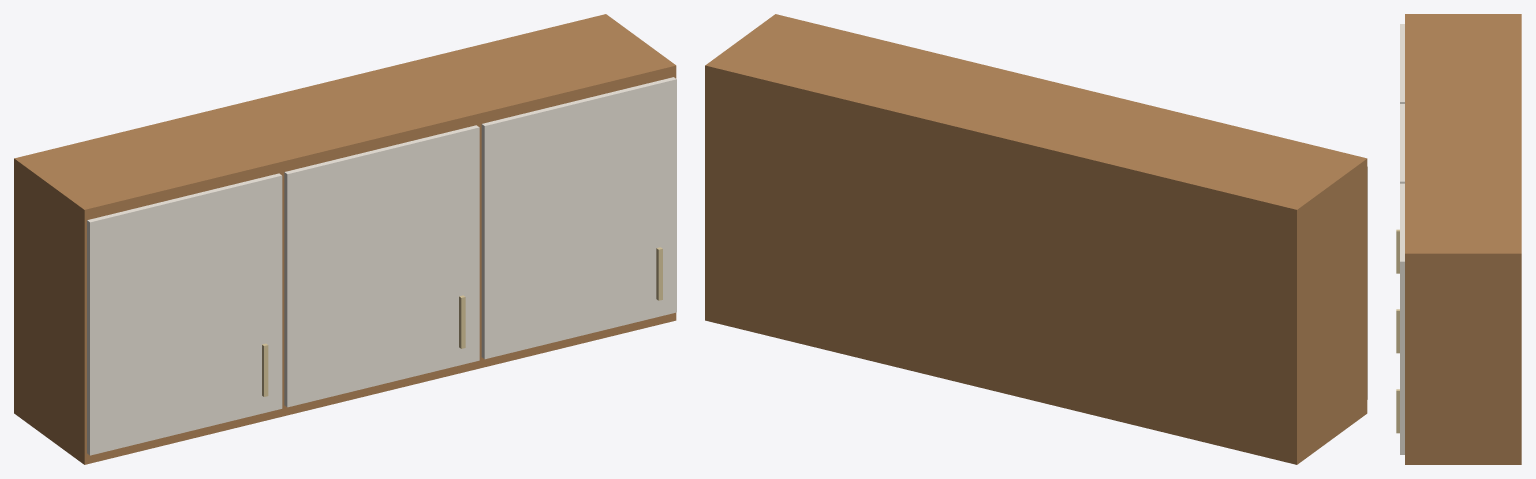
The model's file is armario_aereo_170.obj.
The picture shows the model from 3 angles, left to right: view 1: azimuth 30°, elevation 25°; view 2: azimuth 150°, elevation 25°; view 3: azimuth 270°, elevation 25°; orthographic projection. The views are drawn at different scales.
Parts seen in each view (by area): view 1: armario_aereo_170; view 2: armario_aereo_170; view 3: armario_aereo_170.
Part boxes in pixels (<box>): armario_aereo_170: <box>14,14,676,464</box>; armario_aereo_170: <box>705,14,1367,464</box>; armario_aereo_170: <box>1396,14,1521,464</box>.
Size of the model in its own units: 170 by 70 by 37.6.
